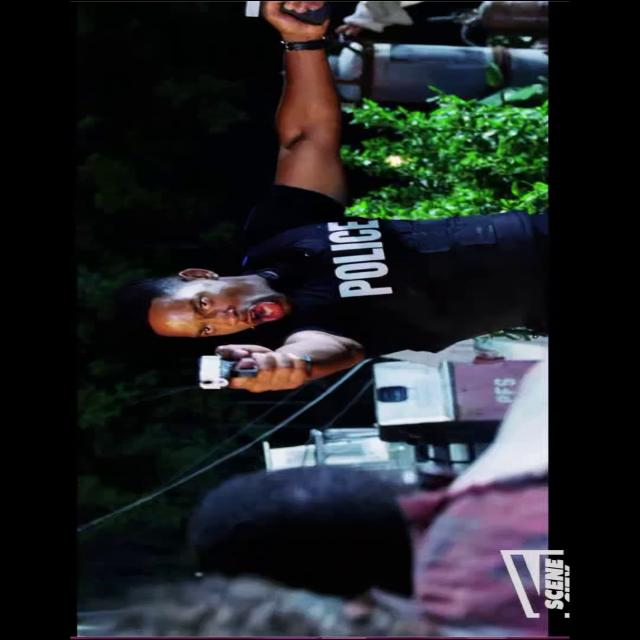weapons: (172, 347, 318, 395)
